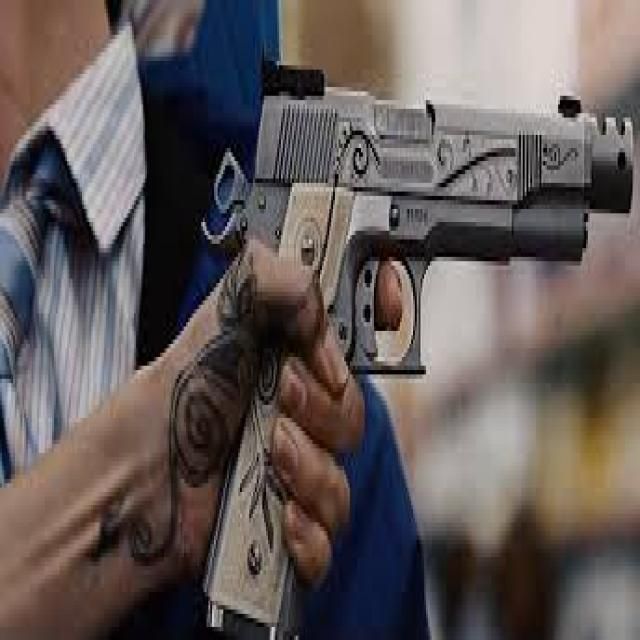gun: (189, 15, 636, 640)
